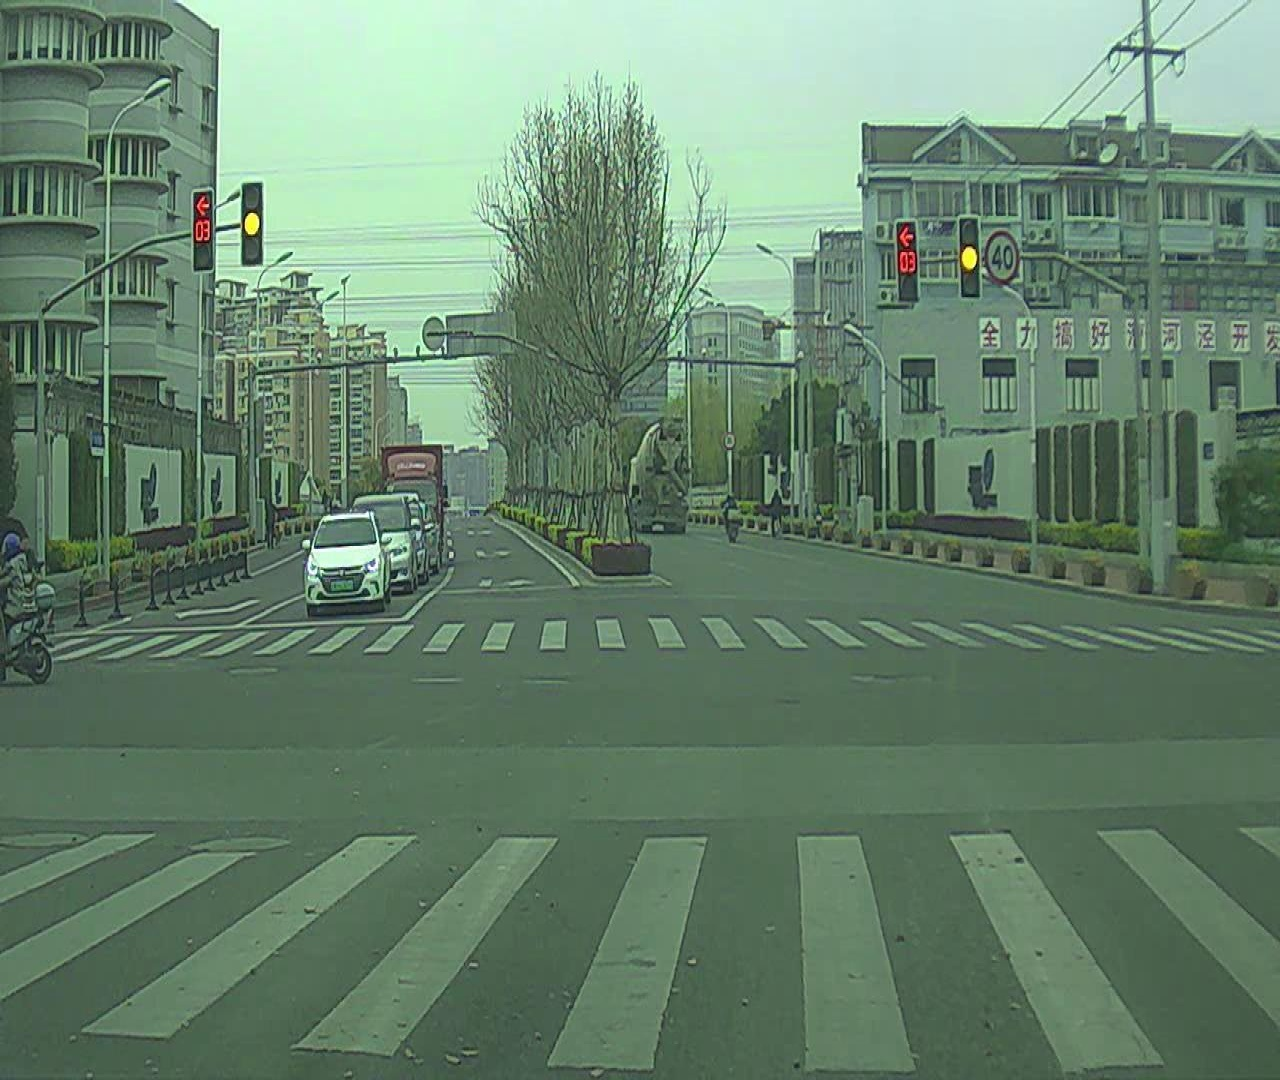red: (189, 187, 216, 276), (892, 219, 919, 304)
yellow: (959, 213, 983, 300), (243, 175, 263, 262)
